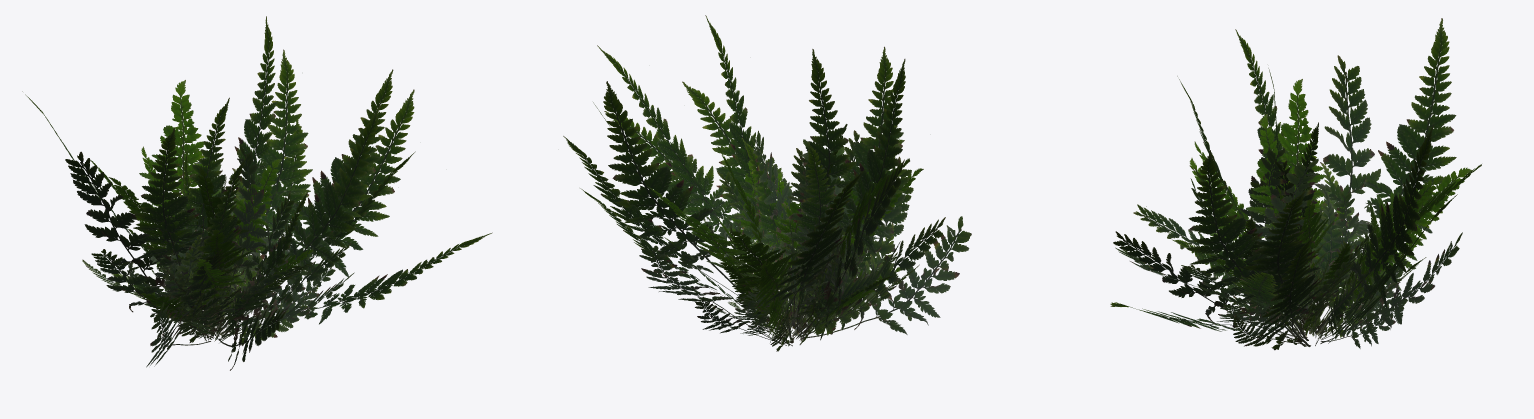
The model's file is Fern_1.fbx.
3 renders of one model, left to right at view 1: azimuth 30°, elevation 25°; view 2: azimuth 150°, elevation 25°; view 3: azimuth 270°, elevation 25°, orthographic. The views are drawn at different scales.
Visible parts, largest first — view 1: Fern_1; view 2: Fern_1; view 3: Fern_1.
Part boxes in pixels (x1,y1,x2,y2): Fern_1: (22,16,492,370); Fern_1: (563,15,971,351); Fern_1: (1110,18,1481,350).
Size of the model in its own units: 189 by 144 by 185.
